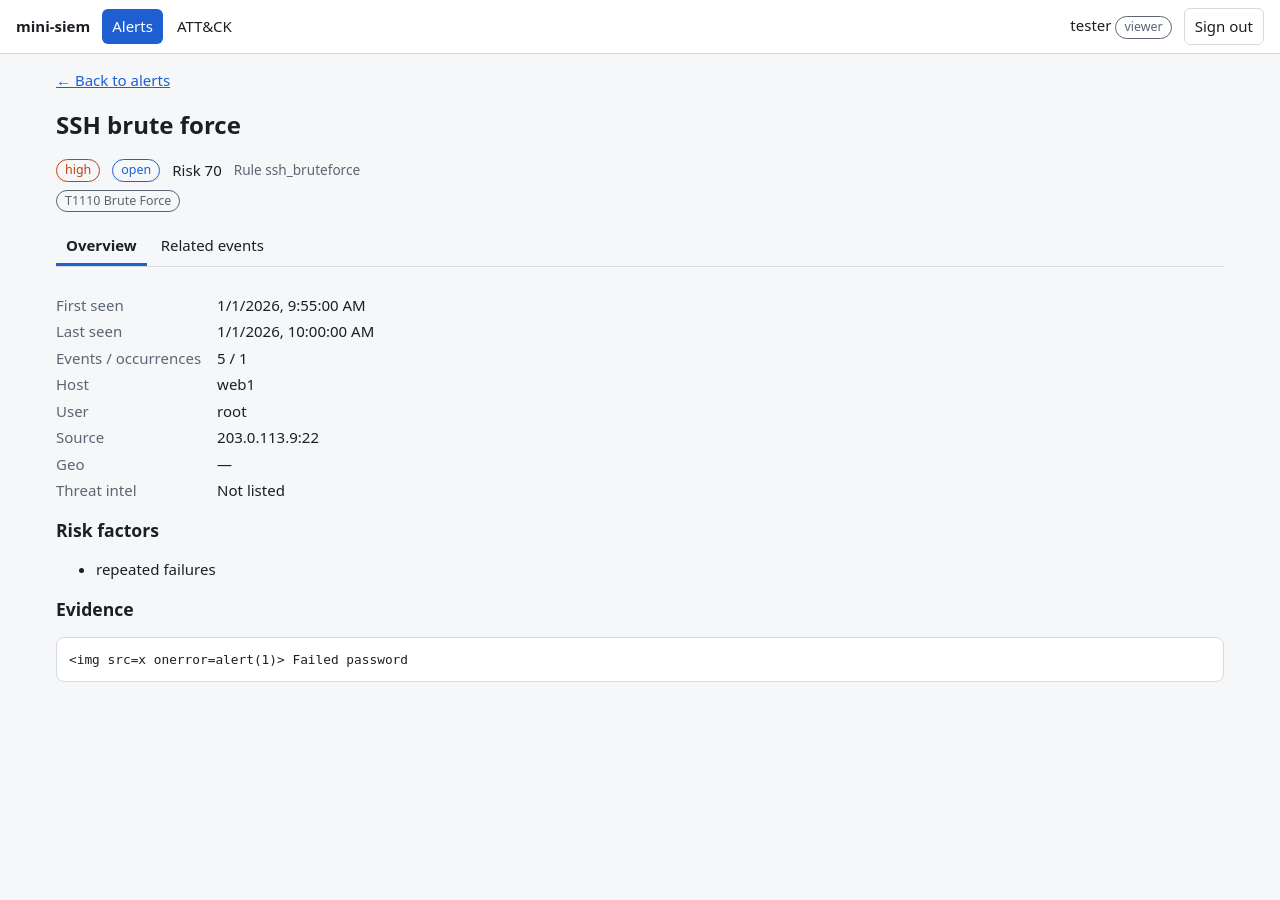
it: related events tab › shows an empty state
Click the tab "Related events" at (212, 247), box [151, 228, 274, 266]
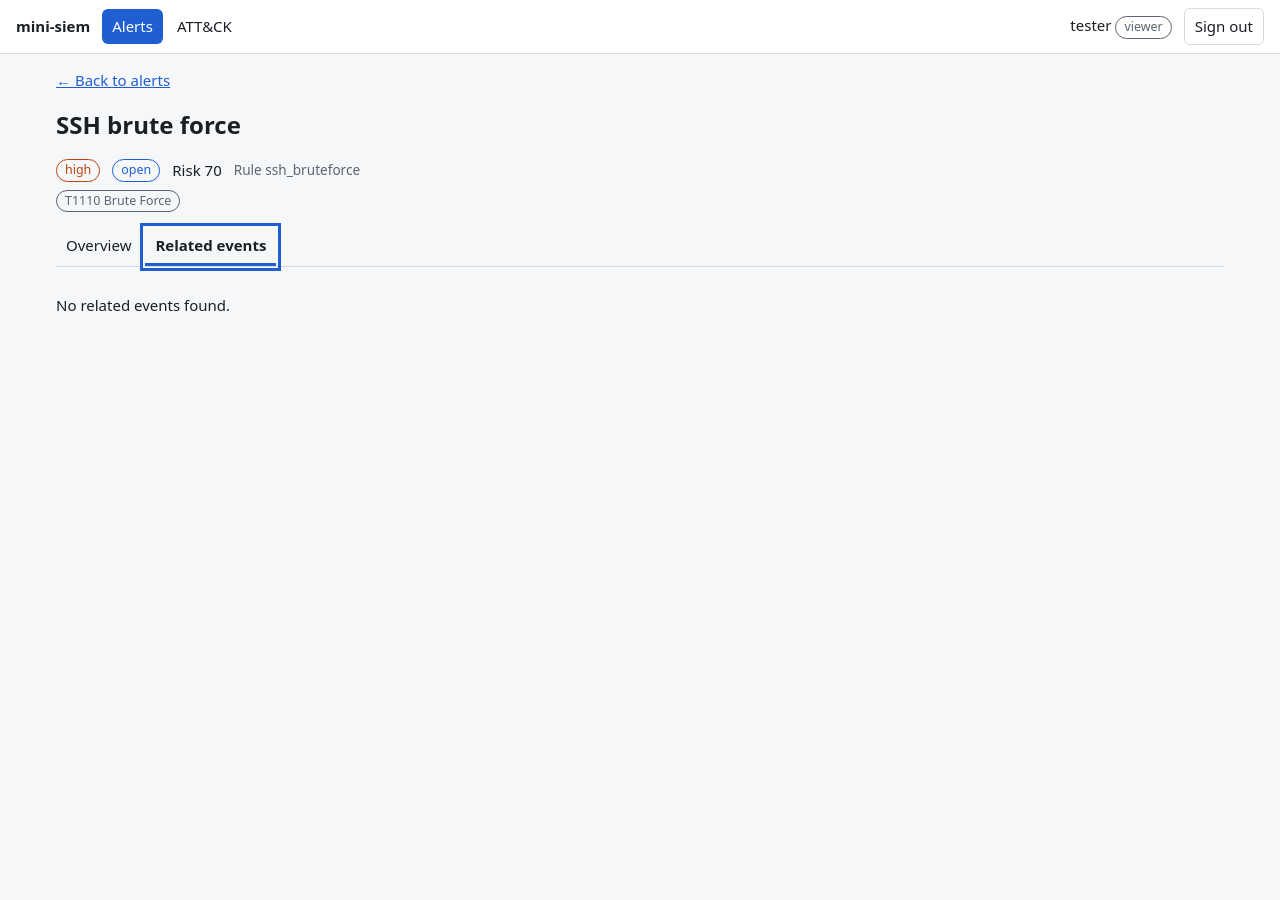
Expected: the text "No related events found." is shown, [56, 295, 230, 315]
